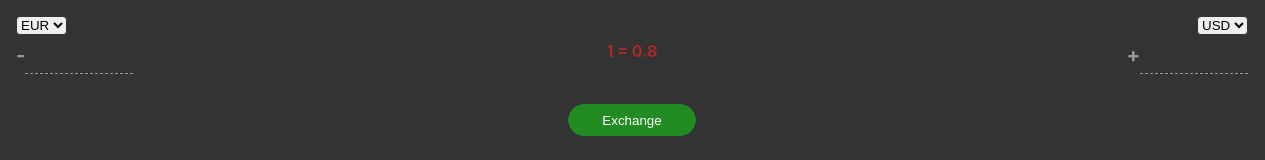
Scenario: exchange controller › automatic amount calculation test
Type "5" into the number field with test id "firstValue" at (79, 59), box [25,44,133,74]
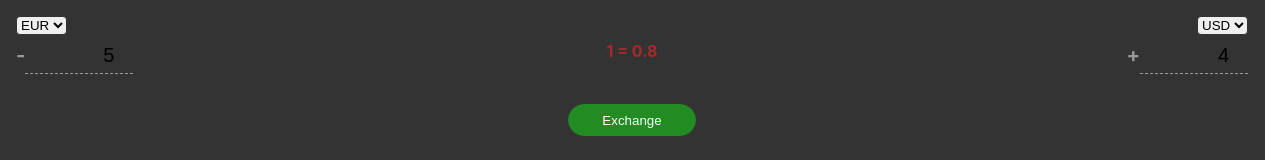
Result: the number field with test id "secondValue" holds "4" at [1140,44,1248,74]
